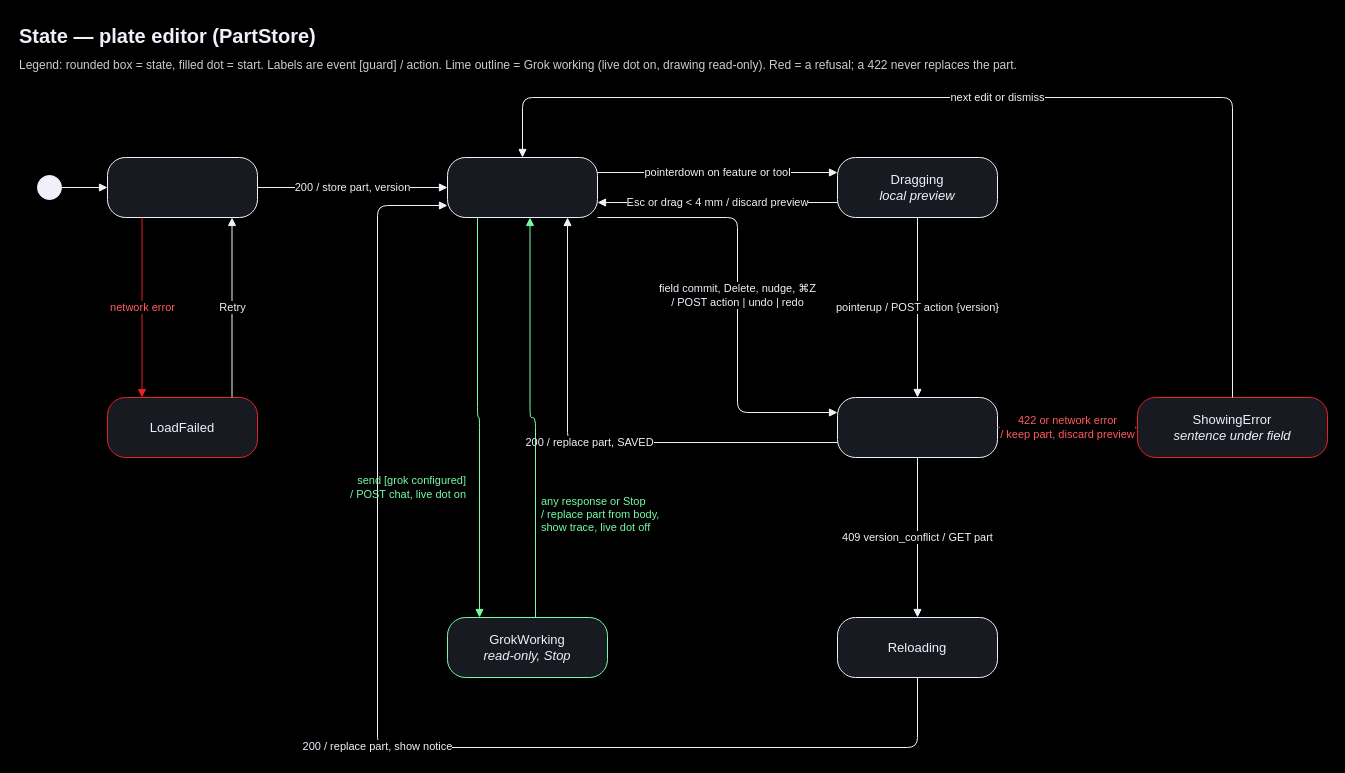
The diagram is 1345 pixels wide and 773 high, and some of its shapes have lost their labels. The shapes that lost their labels are listed below. From the top down, each one's box as (x1, y1, x2, y2) in pixels, then its label:
(106, 156, 258, 218): Loading
(446, 156, 598, 218): Ready
(836, 396, 998, 458): Saving SAVING…
